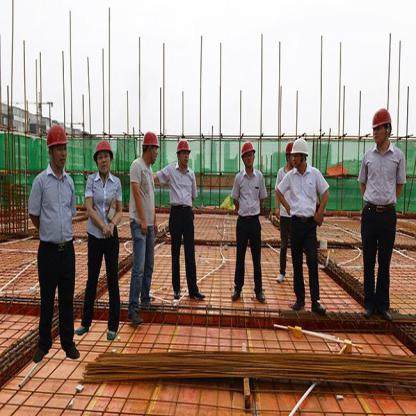helmet: (44, 122, 69, 146), (369, 107, 392, 128), (93, 138, 114, 158), (292, 135, 310, 154), (142, 130, 159, 147), (175, 136, 191, 153), (241, 140, 256, 156), (284, 139, 295, 154)
person: (30, 122, 78, 358), (82, 138, 123, 338), (361, 107, 400, 314), (284, 139, 330, 312), (164, 138, 202, 298), (129, 130, 159, 329), (230, 140, 266, 302), (276, 139, 296, 280)
